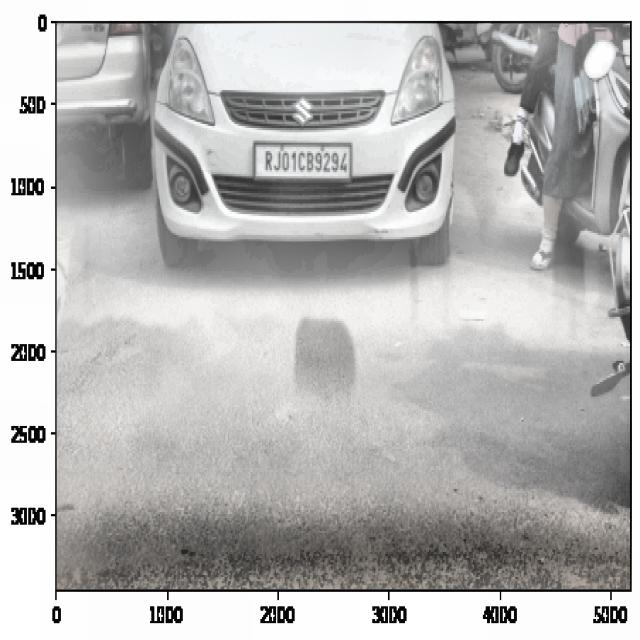license_plate: (259, 144, 356, 185)
